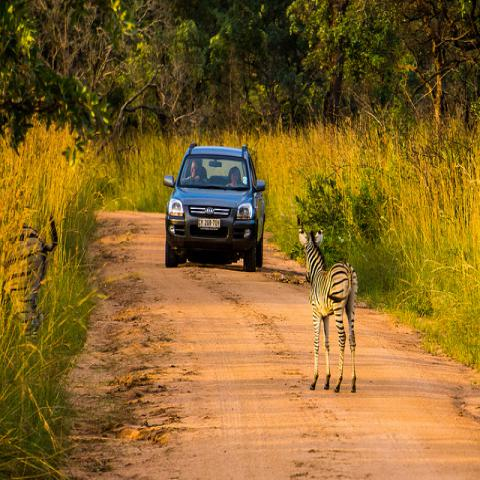car: (164, 145, 266, 270)
